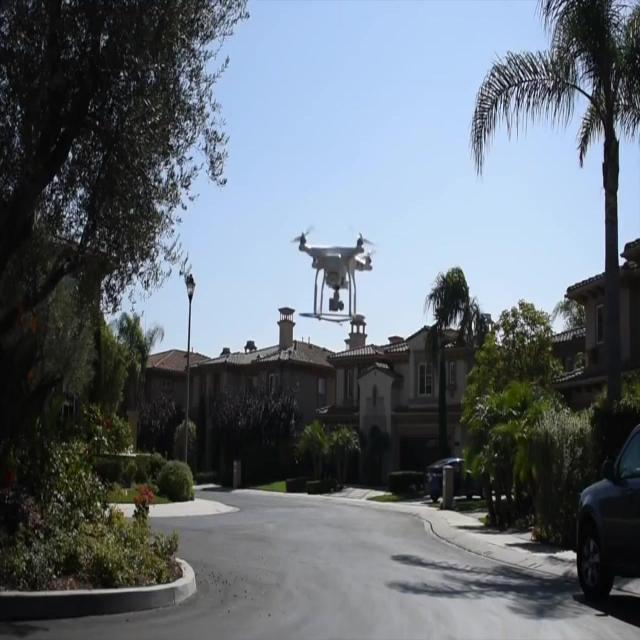drone: (292, 225, 374, 327)
